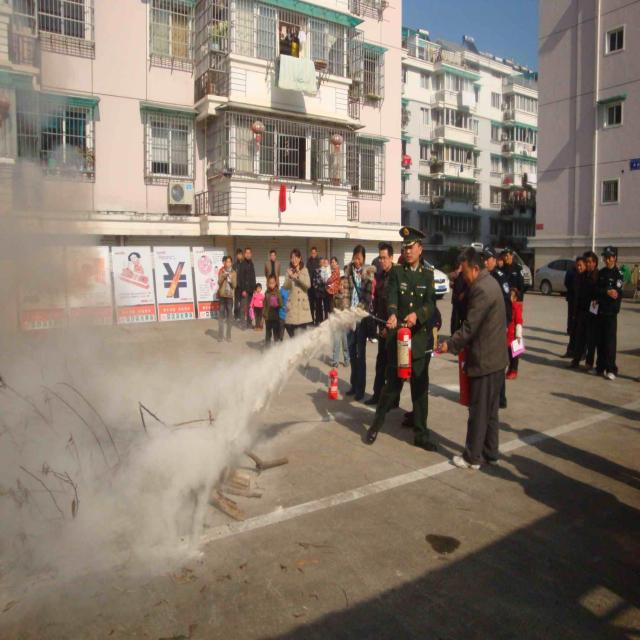non-fight: (366, 230, 442, 452), (448, 245, 518, 472), (601, 245, 626, 379)
